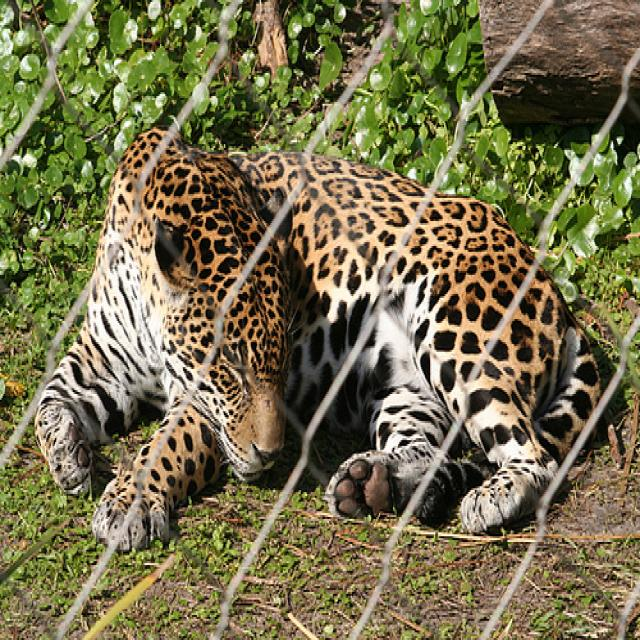Leopard: (33, 125, 600, 548)
